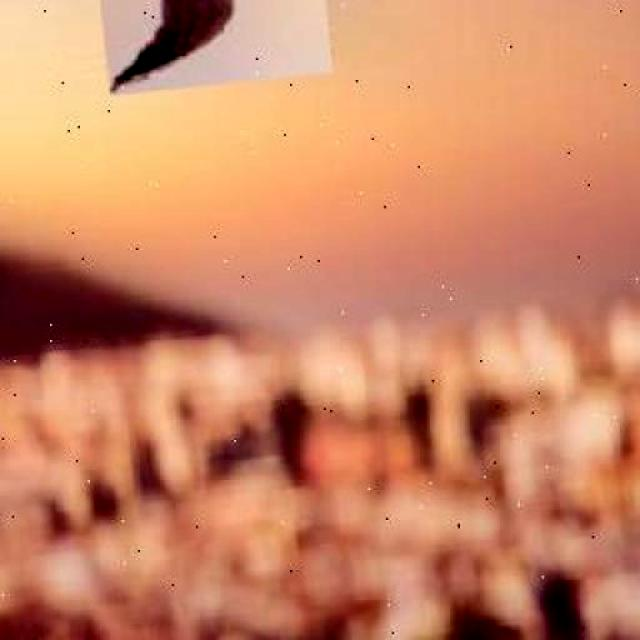airplane: (84, 0, 334, 95)
